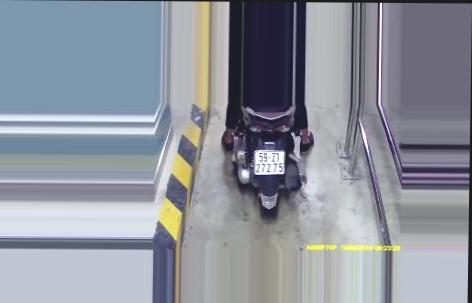License_Plate: (249, 146, 289, 179)
